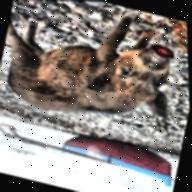boar: (0, 0, 188, 140)
